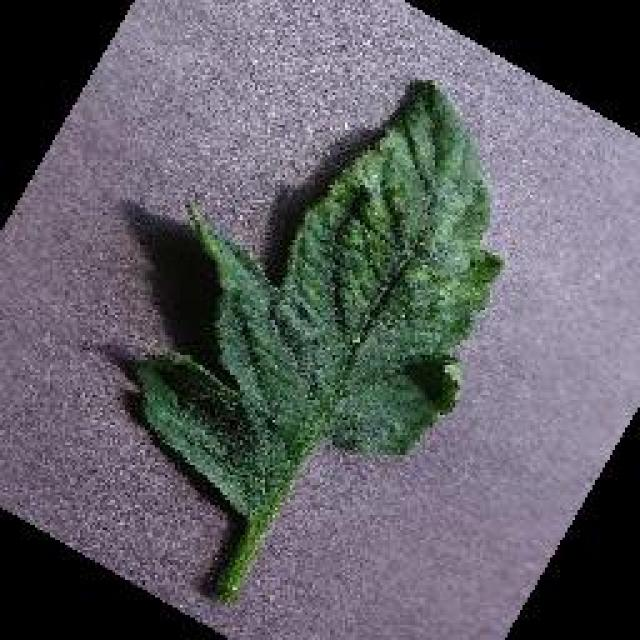Tomato___Tomato_mosaic_virus: (132, 82, 500, 598)
